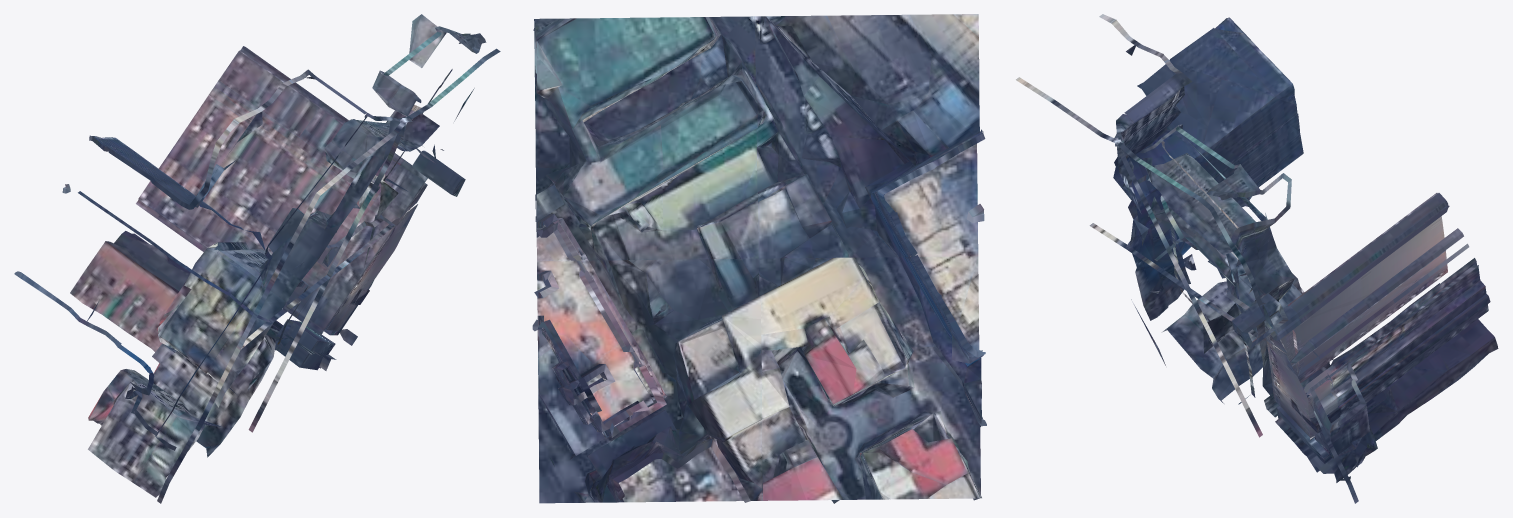
3 views of the same model, side by side, from view 1: azimuth 30°, elevation 25°; view 2: azimuth 150°, elevation 25°; view 3: azimuth 270°, elevation 25° (orthographic). The views are drawn at different scales.
Bounding box in the file's own units: 91.71 × 77.99 × 91.17.
3 materials, 3 textured.
